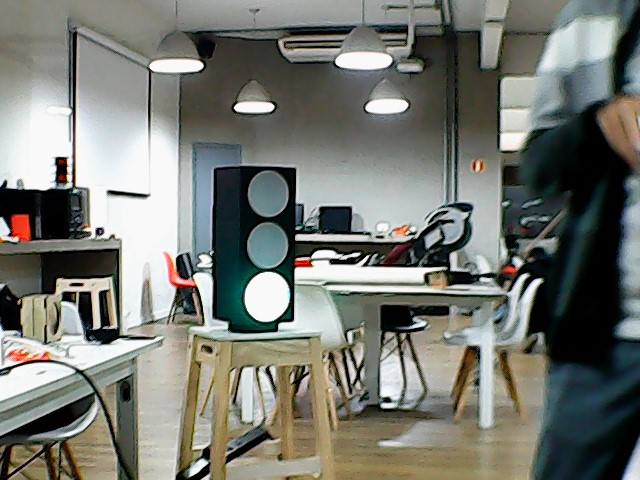verde: (210, 164, 301, 333)
